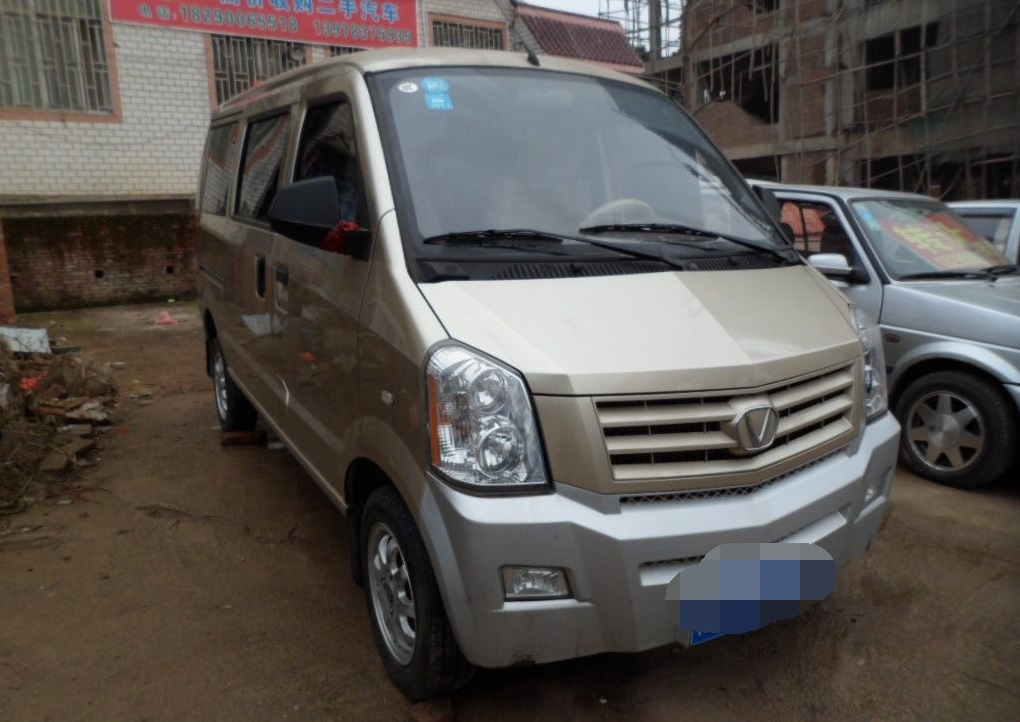minibus: (190, 50, 898, 682)
